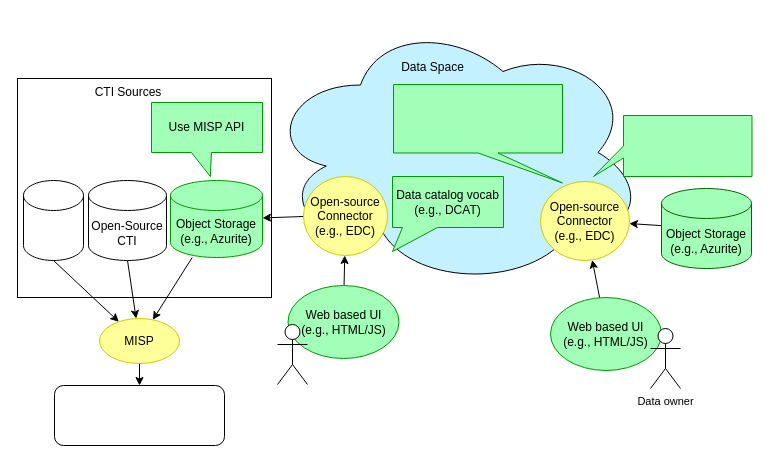
Image size: 770x463. Some labels were removed from this diagram. Each missing label, with the centre of its shape:
"Abstract CTI model based on existing standards (e.g., STIX, VERIS, IODEF)" belongs at [477,133].
"Data Consumer" belongs at [292,354].
"Other CTI Sources" belongs at [53,220].
"Security Tools: SIEM / Firewall / IPS / SOAR" belongs at [139,415].
"Usage policy model (e.g., ODRL)" belongs at [672,145].
